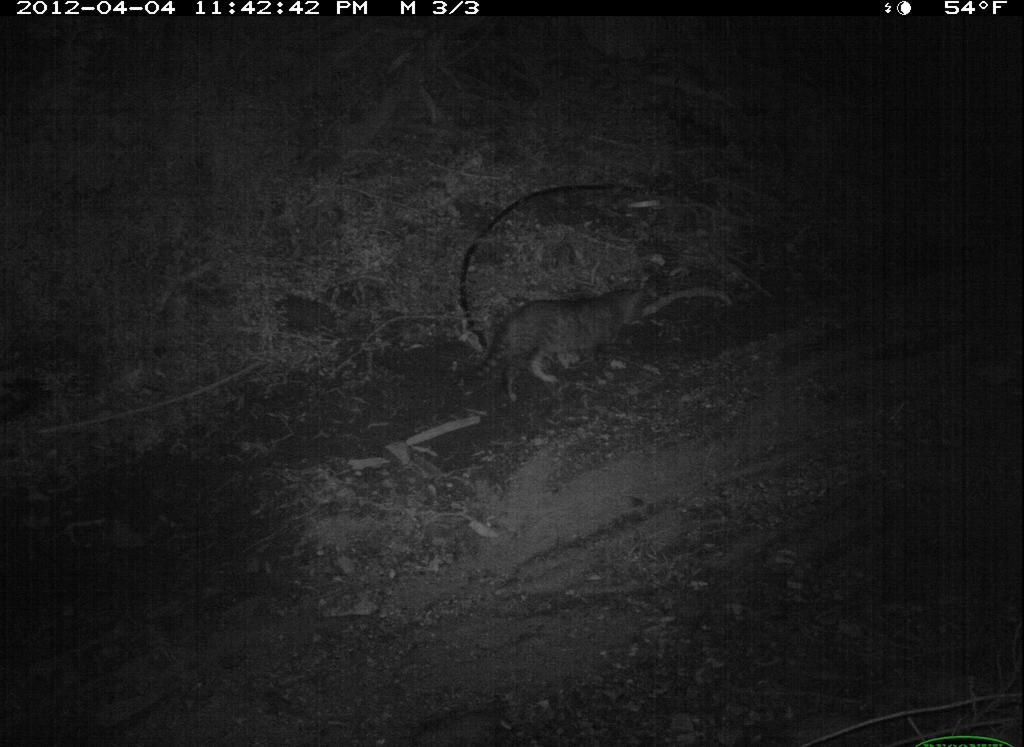cat: (459, 283, 681, 399)
